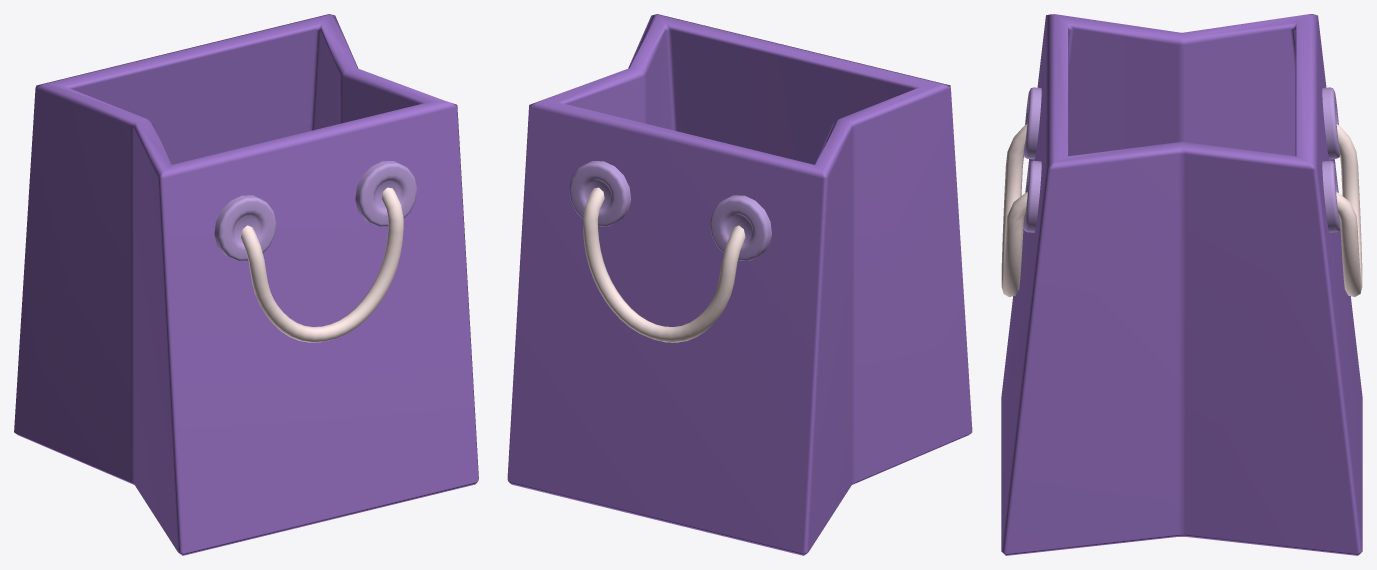
The model's file is Public_10_Package_1.glb.
The picture shows the model from 3 angles, left to right: view 1: azimuth 30°, elevation 25°; view 2: azimuth 150°, elevation 25°; view 3: azimuth 270°, elevation 25°; orthographic projection. The views are drawn at different scales.
Visible parts, largest first — view 1: Public_10_Package_1; view 2: Public_10_Package_1; view 3: Public_10_Package_1.
Part boxes in pixels (x1,y1,x2,y2): Public_10_Package_1: (14, 14, 478, 555); Public_10_Package_1: (507, 14, 972, 555); Public_10_Package_1: (1001, 14, 1362, 555).
Bounding box in the file's own units: 1.53 × 1.78 × 1.49.
Materials: 1 (1 with a texture image).
